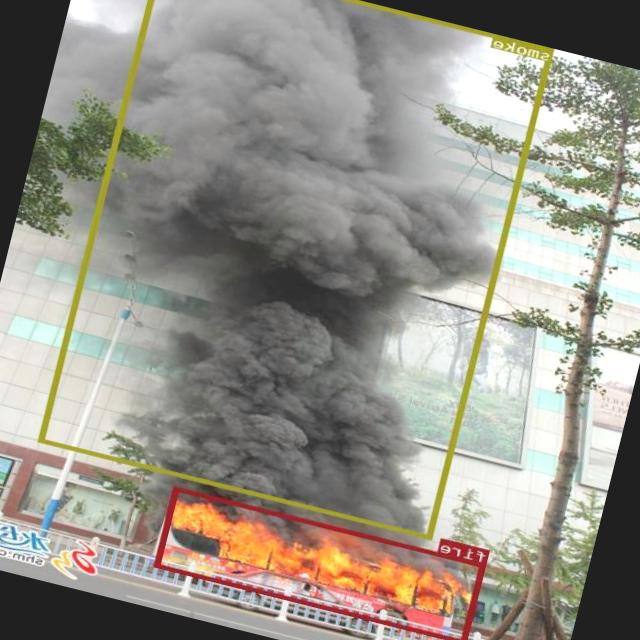fire: (155, 486, 486, 640)
smoke: (39, 0, 555, 538)
